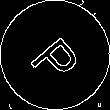P_NE: (24, 24, 86, 86)
